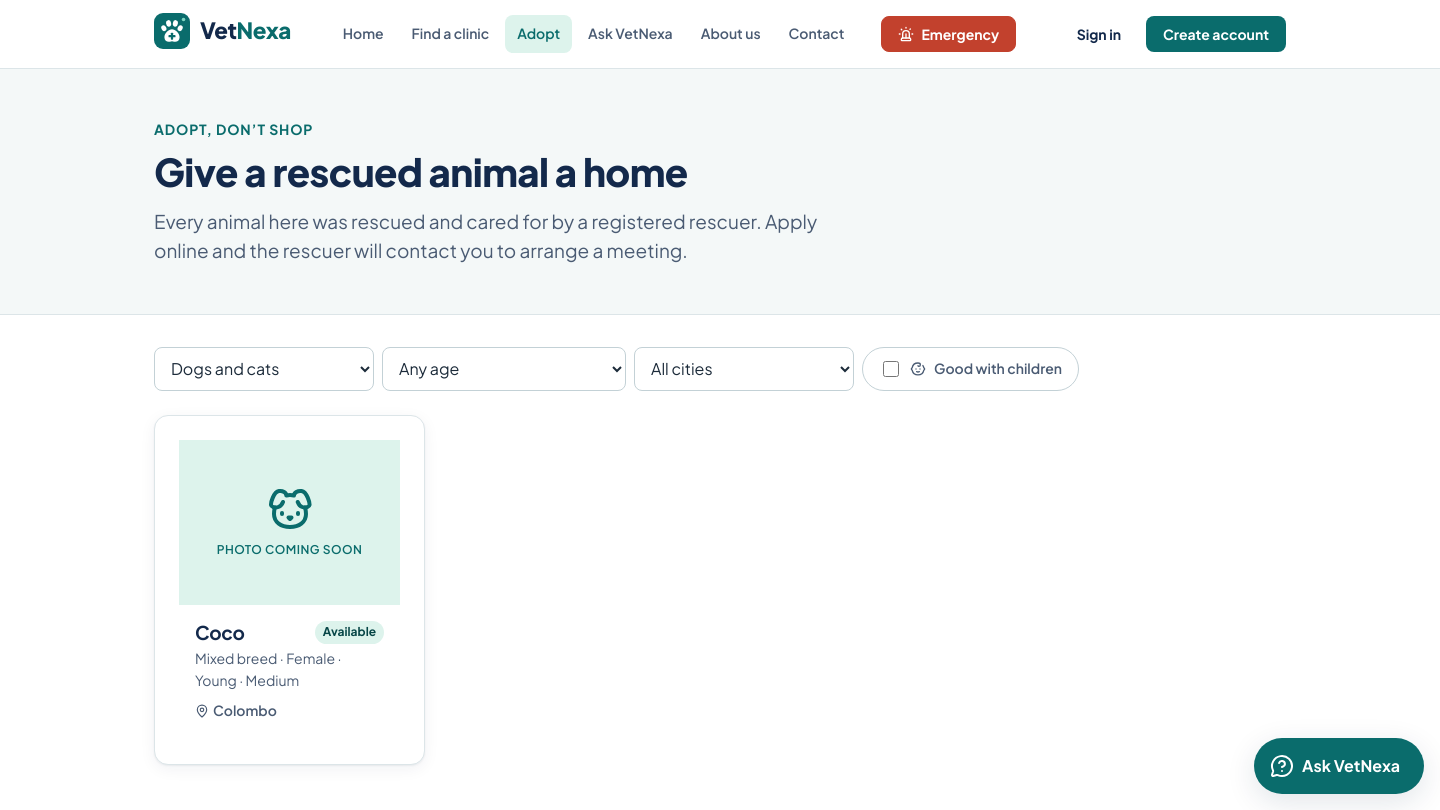
Test case: adoption pages › lists animals with filters kept in the address bar
This screenshot has width=1440, height=810.
Expected: the text "Mixed breed · Female · Young · Medium" is shown, [195,649,342,689]
Select "Cat" in the dropdown named "Species" at (264, 369), box [154,347,374,391]
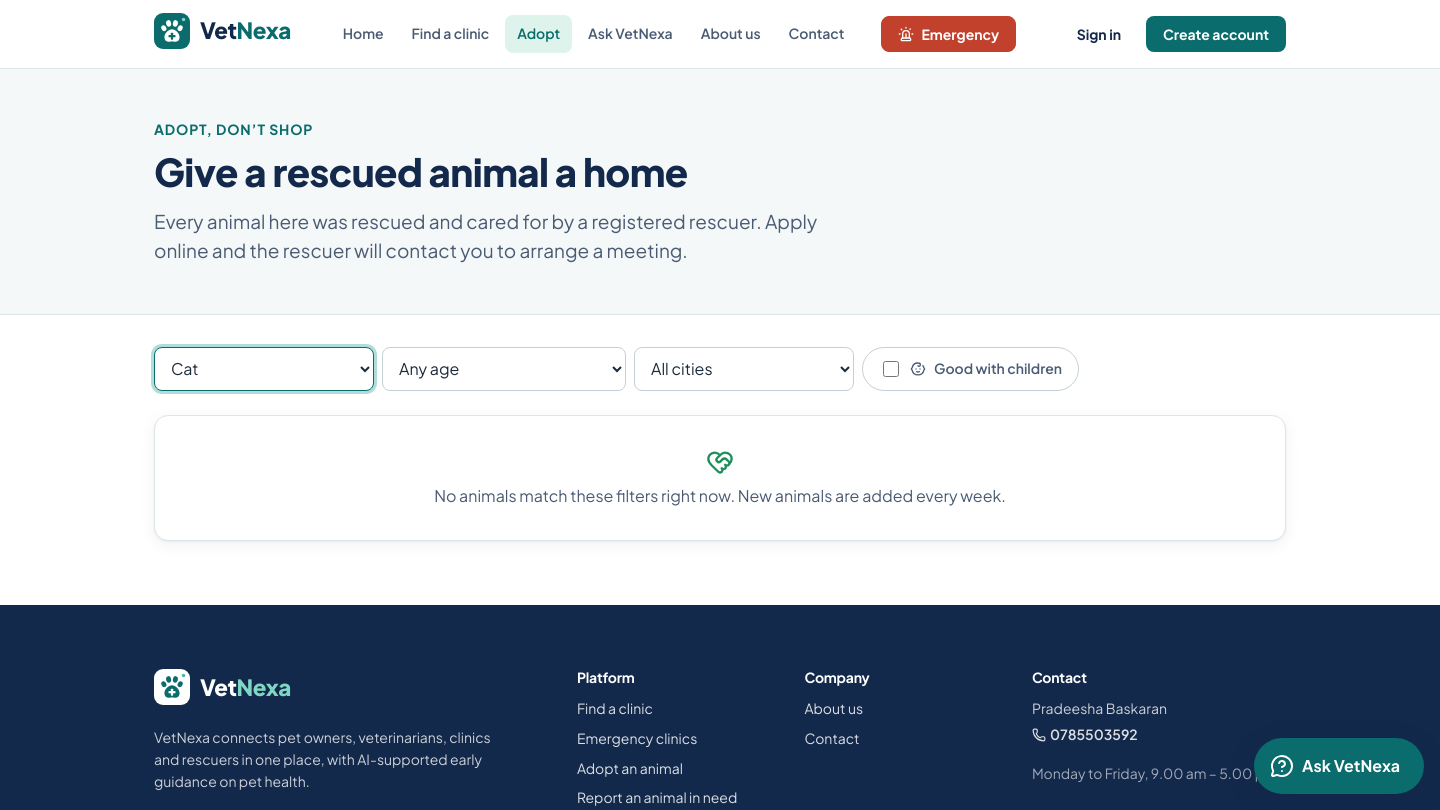
Expected: the text "No animals match these filters" is shown, [434,485,1006,506]
